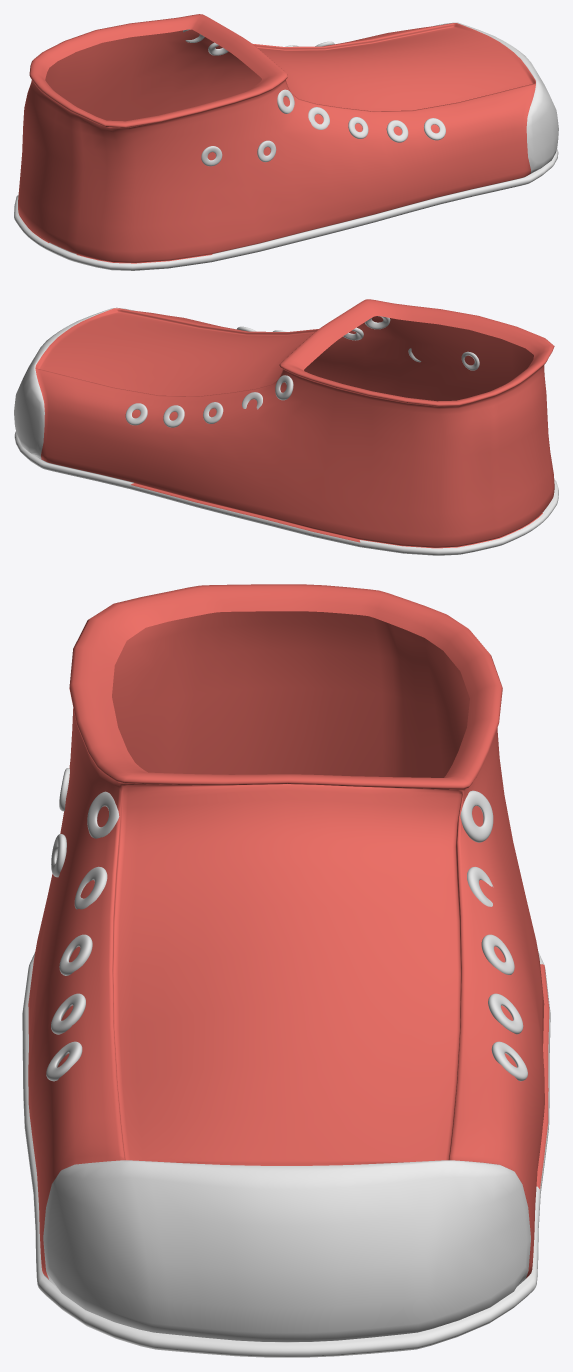
Rendered from Tenis.fbx.
3 renders of one model, top to bottom at view 1: azimuth 30°, elevation 25°; view 2: azimuth 150°, elevation 25°; view 3: azimuth 270°, elevation 25°, orthographic. The views are drawn at different scales.
Parts seen in each view (by area): view 1: Cube; view 2: Cube; view 3: Cube.
Part boxes in pixels (<box>): Cube: <box>14,14,558,270</box>; Cube: <box>14,299,558,555</box>; Cube: <box>22,584,550,1357</box>.
Bounding box in the file's own units: 224 × 66.1 × 102.
